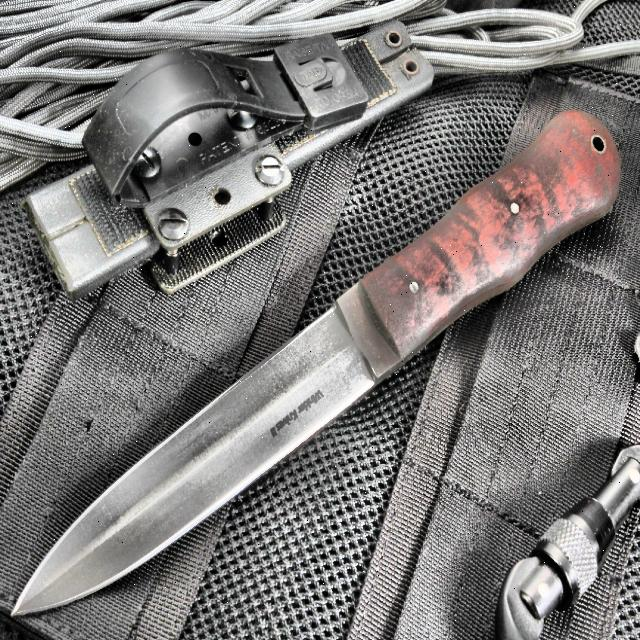knife: (12, 112, 620, 620)
